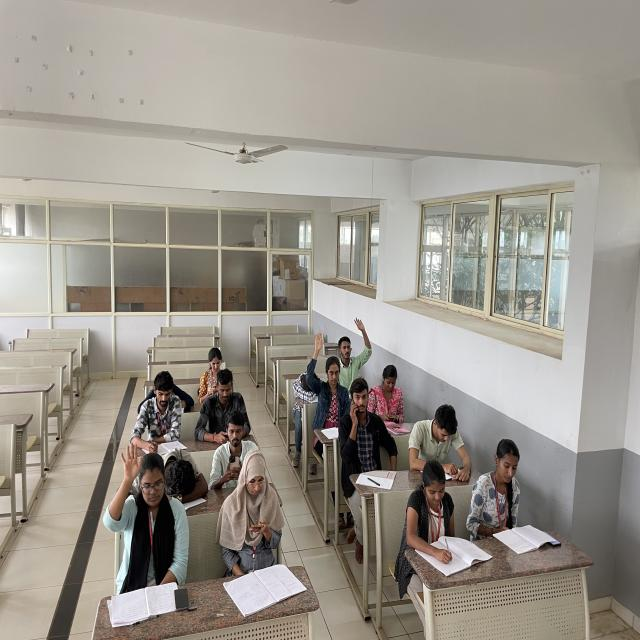Hand Rising: (100, 446, 186, 584), (306, 328, 345, 420), (335, 314, 375, 374)
Reading: (469, 439, 548, 554), (409, 402, 476, 485)
Sleeping: (137, 438, 213, 505), (282, 368, 328, 408)
Using Phone: (212, 446, 288, 566), (198, 366, 255, 447), (206, 416, 260, 492), (344, 375, 376, 462), (191, 350, 228, 404), (371, 366, 405, 424)
Writing: (406, 463, 477, 570), (129, 370, 190, 455)
